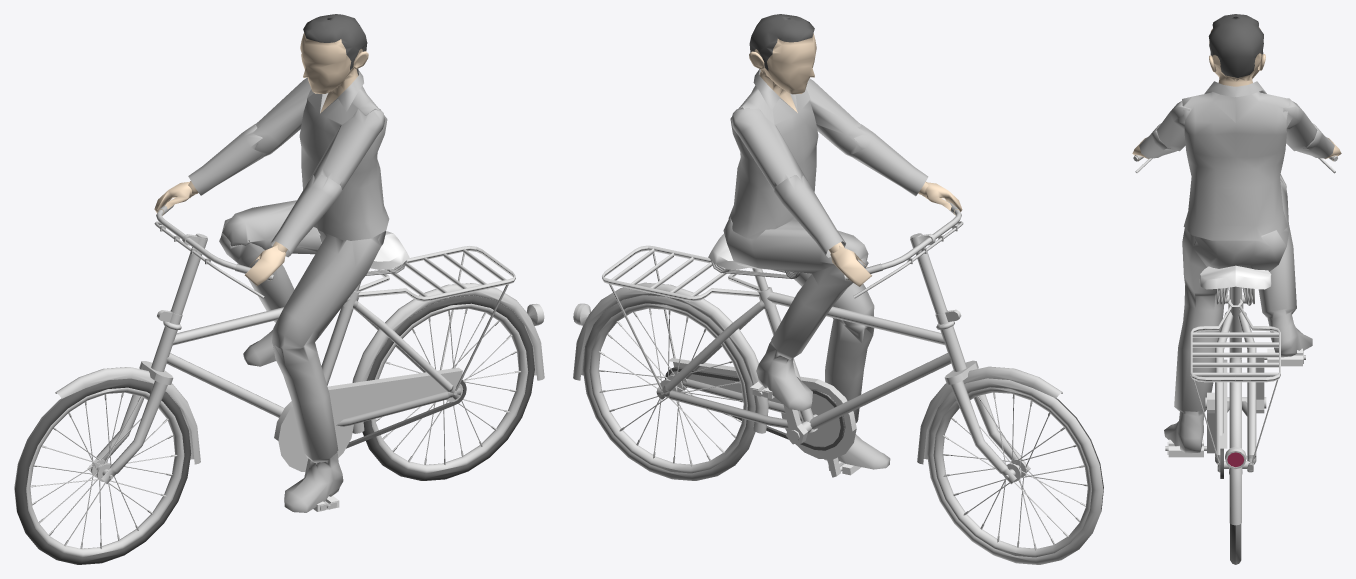
The model's file is bicycle.glb.
3 renders of one model, left to right at view 1: azimuth 30°, elevation 25°; view 2: azimuth 150°, elevation 25°; view 3: azimuth 270°, elevation 25°, orthographic.
Visible parts, largest first — view 1: Bicycle; view 2: Bicycle; view 3: Bicycle.
Boxes of the visible parts, left/top/right/bottom form: Bicycle: left=14, top=14, right=544, bottom=564; Bicycle: left=573, top=14, right=1103, bottom=564; Bicycle: left=1132, top=14, right=1341, bottom=564.
Bounding box in the file's own units: 1.19 × 1.05 × 0.4143.
